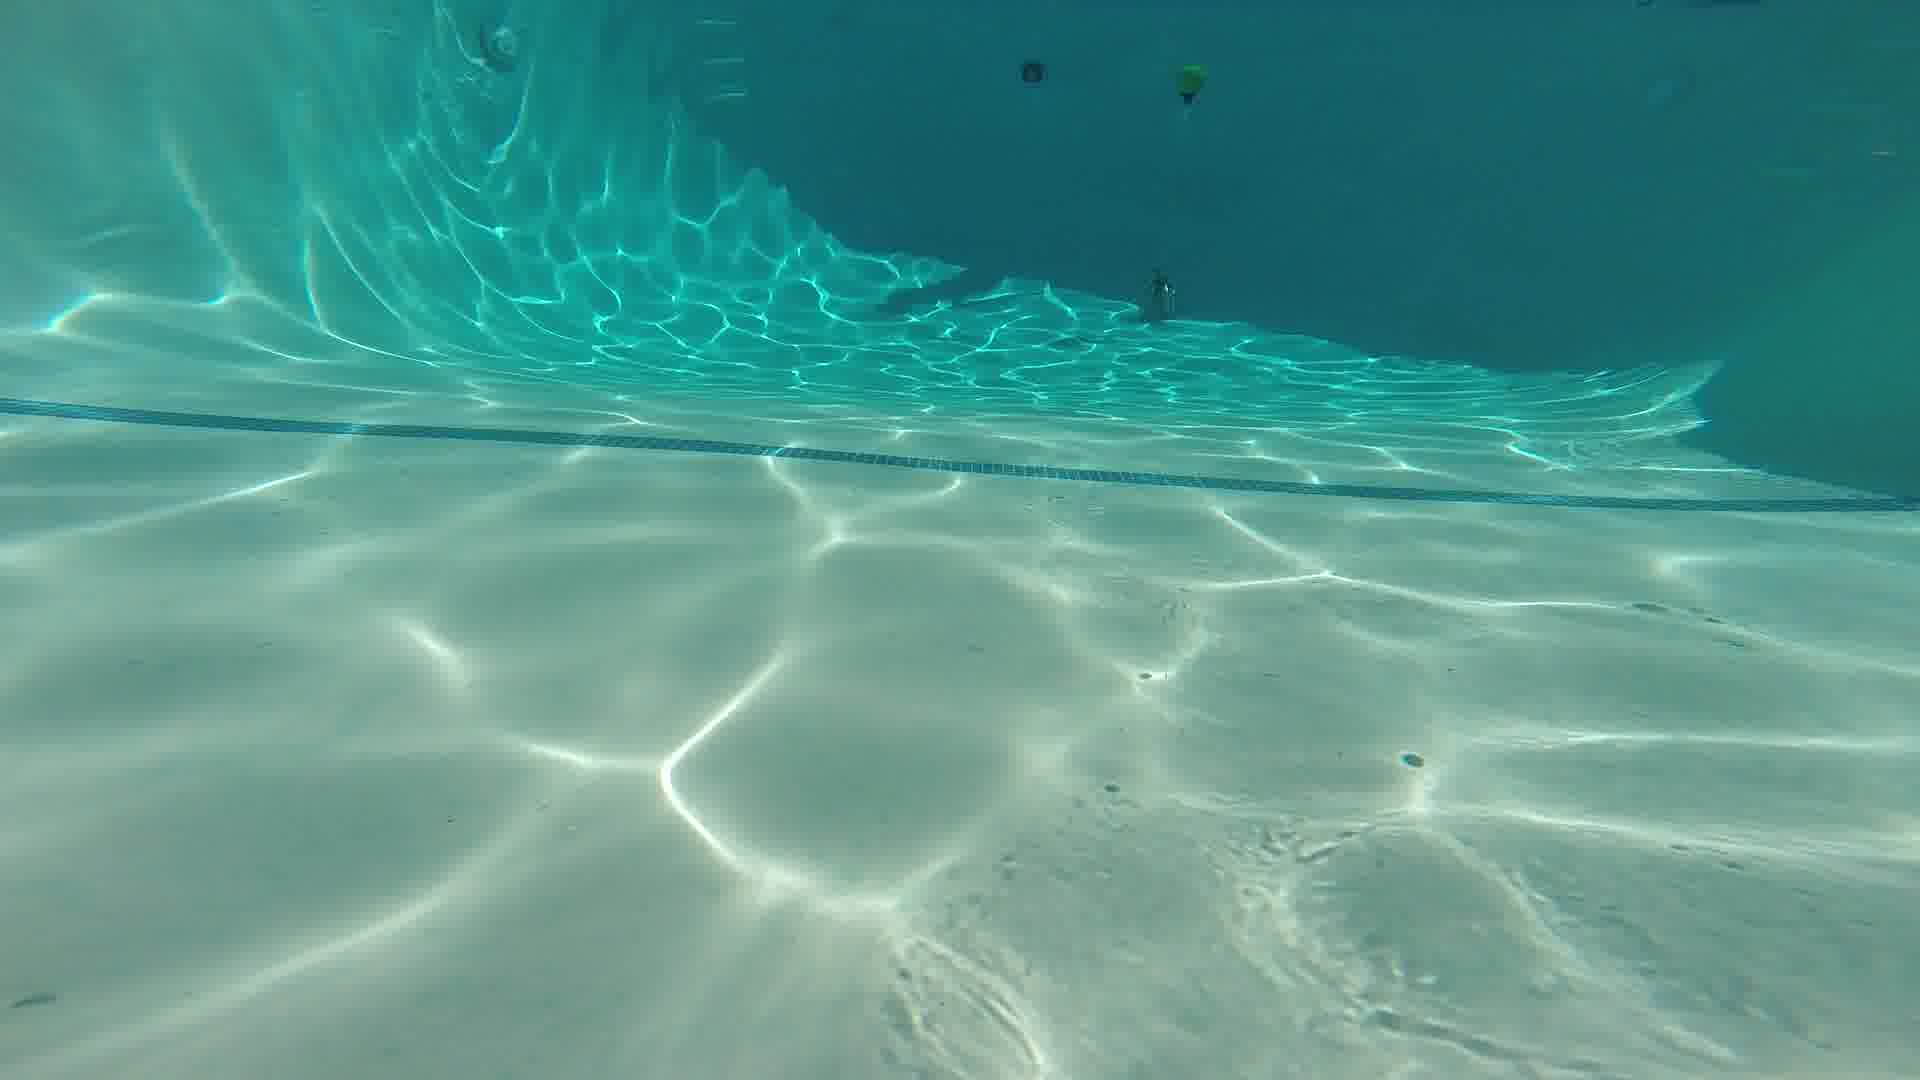yellow_buoy: (1178, 65, 1205, 102)
